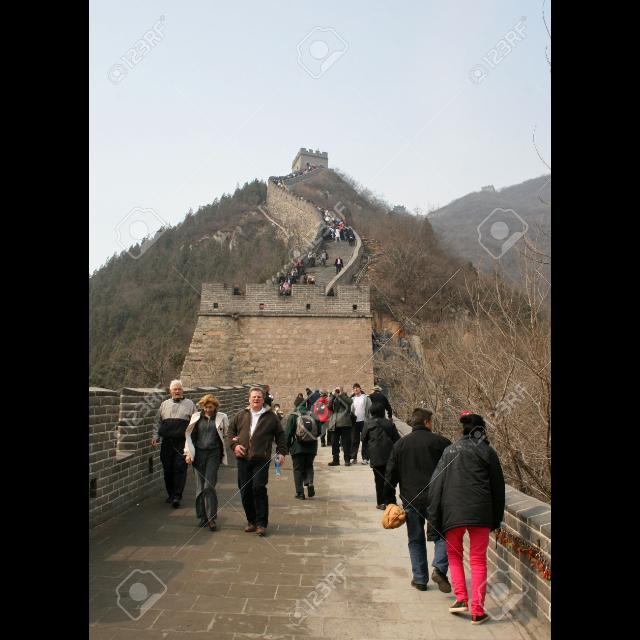head: (464, 414, 486, 442), (413, 406, 435, 432), (248, 388, 266, 408), (202, 395, 218, 417), (170, 380, 184, 400), (294, 397, 308, 409), (371, 404, 383, 416), (320, 388, 330, 398), (353, 384, 362, 394), (336, 386, 344, 396), (373, 386, 381, 394), (275, 404, 281, 412), (264, 386, 270, 392), (298, 394, 304, 400), (307, 388, 311, 394), (236, 286, 240, 290), (330, 288, 334, 292), (312, 276, 316, 280), (304, 272, 306, 276), (339, 256, 341, 260), (336, 228, 339, 230), (310, 276, 312, 278), (299, 258, 301, 260), (313, 250, 315, 252), (324, 250, 326, 252), (352, 233, 354, 235)
person: (426, 410, 508, 628), (382, 407, 460, 598), (226, 387, 290, 539), (182, 394, 242, 532), (150, 380, 200, 510), (359, 401, 403, 513), (285, 396, 323, 500), (325, 384, 359, 468), (346, 382, 376, 466), (366, 384, 394, 464), (314, 388, 334, 448), (260, 384, 274, 444), (272, 402, 286, 443), (294, 392, 308, 422), (306, 386, 316, 419), (233, 284, 243, 308), (334, 256, 346, 276), (320, 248, 330, 270), (327, 287, 337, 307), (308, 249, 318, 269), (300, 272, 308, 296), (308, 274, 316, 298), (334, 228, 342, 242), (298, 258, 304, 276), (349, 233, 355, 247), (310, 275, 318, 283)
